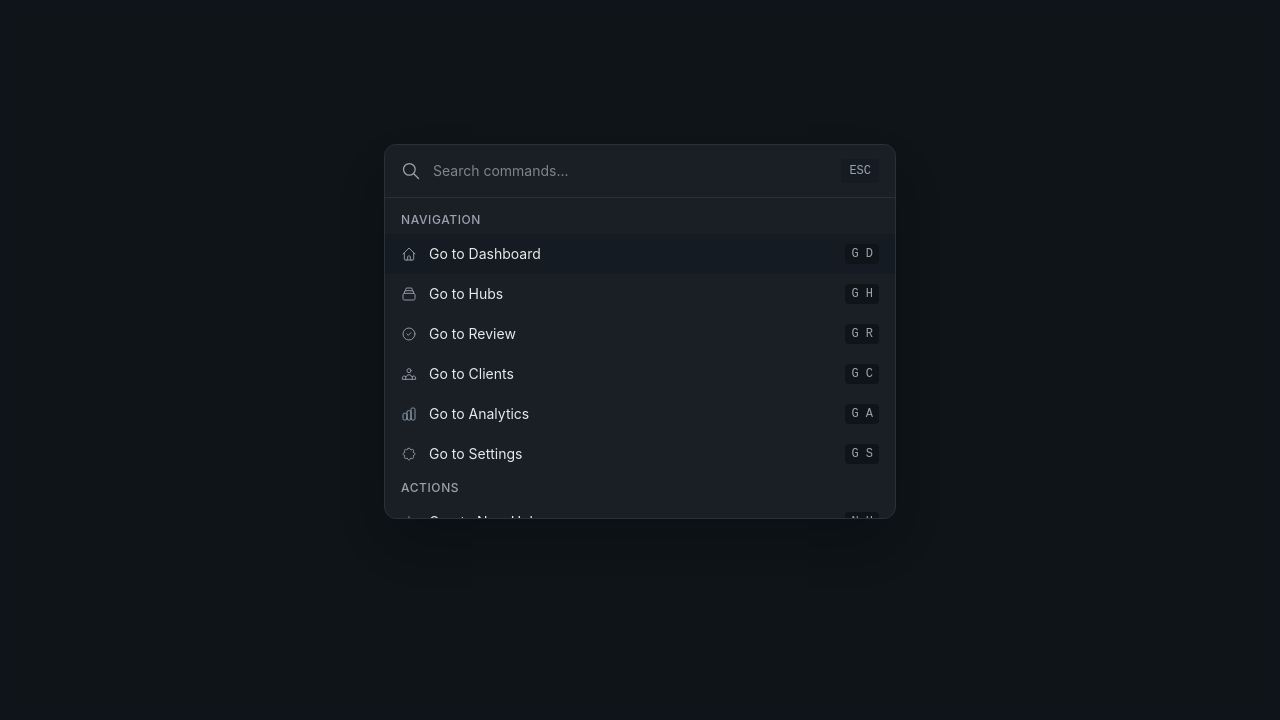
CommandPalette › Search Filtering › filters commands based on search input
Type "dash" into the field with test id "command-palette-search". click: x=631, y=171
box: [421, 145, 841, 197]
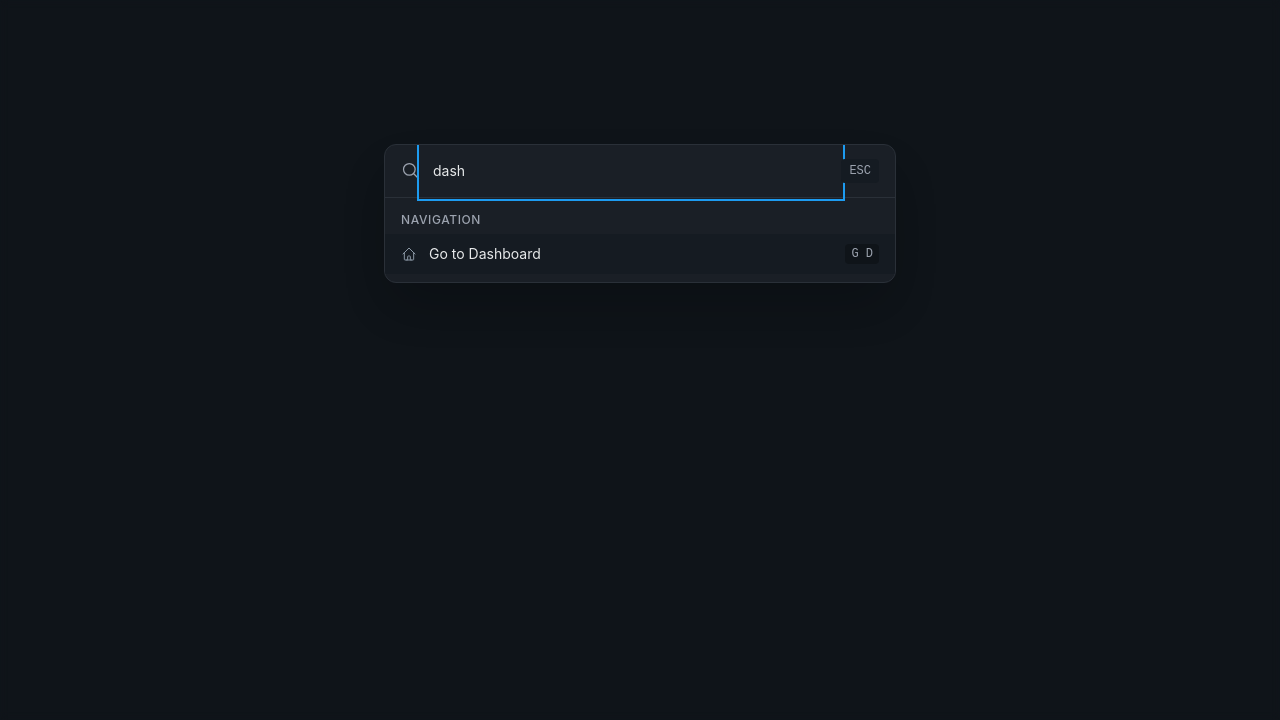
Expected: the text "Go to Dashboard" is shown, [429, 245, 541, 262]
Expected: the button "Go to Hubs" is gone
